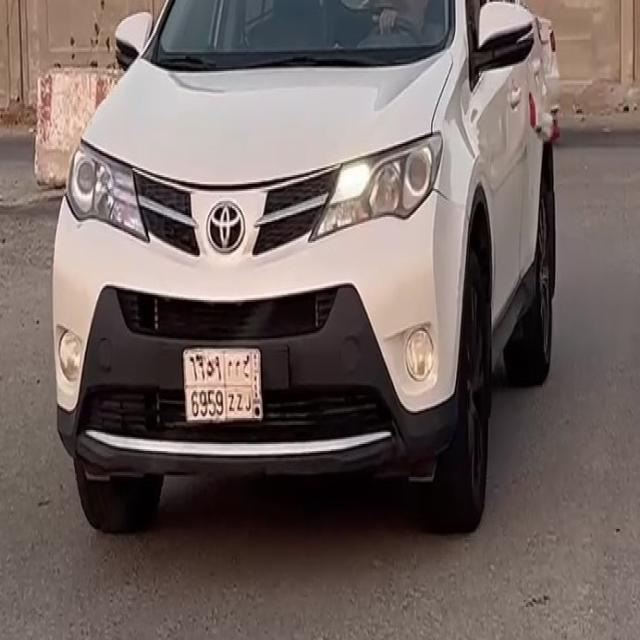Car-plate: (179, 333, 274, 435)
